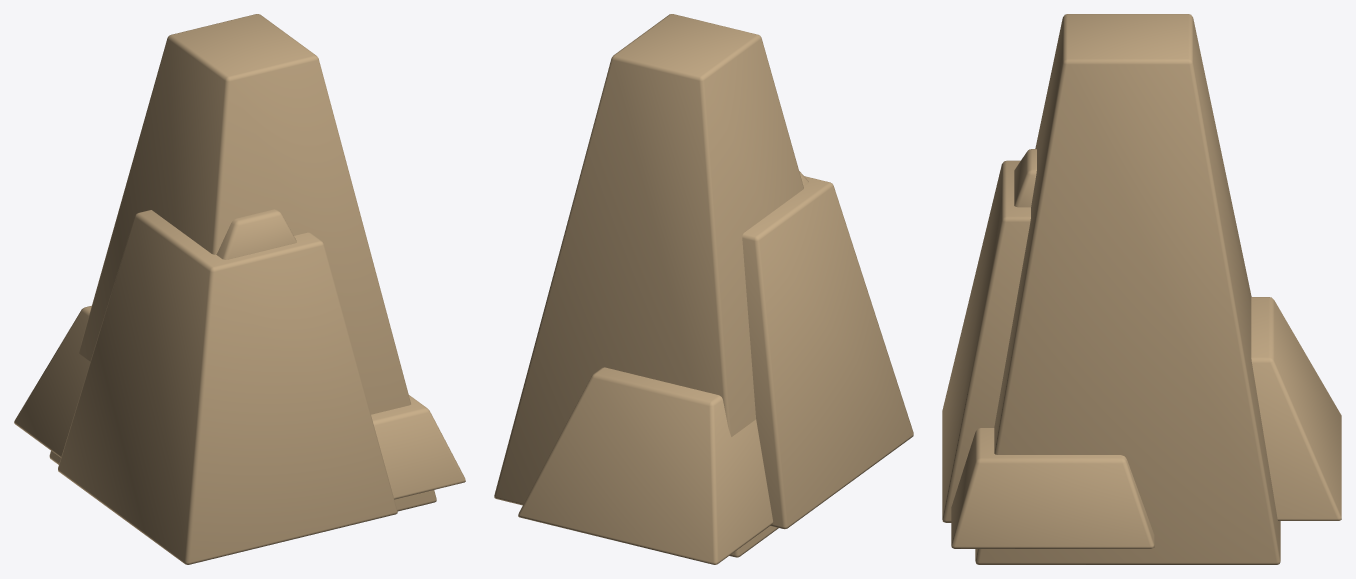
Rendered from BigRocks.fbx.
3 renders of one model, left to right at view 1: azimuth 30°, elevation 25°; view 2: azimuth 150°, elevation 25°; view 3: azimuth 270°, elevation 25°, orthographic. The views are drawn at different scales.
Parts seen in each view (by area): view 1: BigRocks; view 2: BigRocks; view 3: BigRocks.
Boxes of the visible parts, bbox=[...] form: BigRocks: bbox=[14, 14, 465, 564]; BigRocks: bbox=[494, 14, 913, 564]; BigRocks: bbox=[942, 14, 1341, 564].
Bounding box in the file's own units: 5.83 × 8.51 × 6.63.
